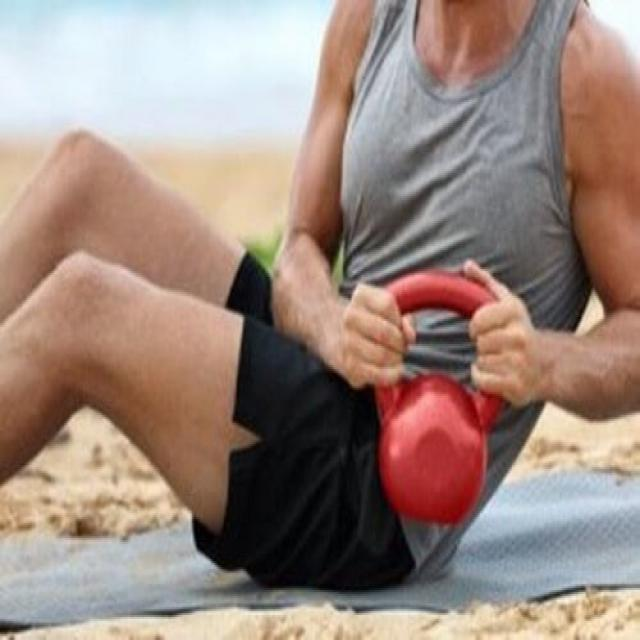Kettlebell: (352, 259, 517, 536)
